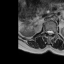CCS_normal: (49, 28, 51, 37)
LFS_normal: (53, 29, 55, 36)
LLS_normal: (51, 28, 53, 36)
RFS_normal: (44, 28, 46, 34)
RLS_normal: (46, 28, 49, 35)
